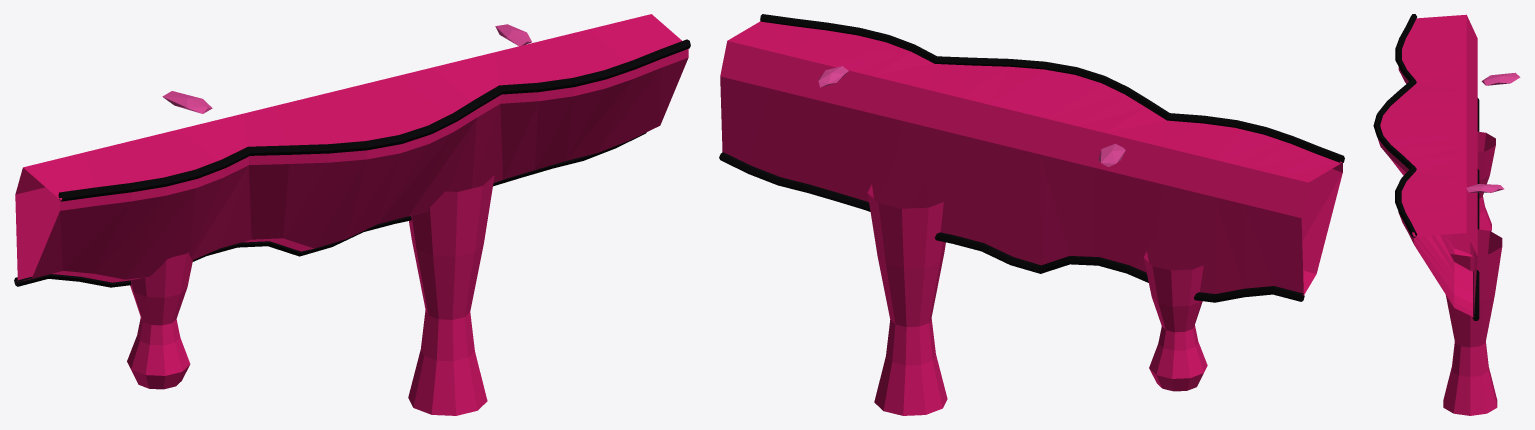
Rendered from AlienV2_Run_Slime_B.fbx.
3 renders of one model, left to right at view 1: azimuth 30°, elevation 25°; view 2: azimuth 150°, elevation 25°; view 3: azimuth 270°, elevation 25°, orthographic. The views are drawn at different scales.
Visible parts, largest first — view 1: AlienV2_Run_Slime_B; view 2: AlienV2_Run_Slime_B; view 3: AlienV2_Run_Slime_B.
Boxes of the visible parts, x1,y1,x2,y2 form: AlienV2_Run_Slime_B: (14,14,690,415); AlienV2_Run_Slime_B: (719,14,1344,415); AlienV2_Run_Slime_B: (1373,14,1520,415).
Bounding box in the file's own units: 1 × 0.5287 × 0.2846.
